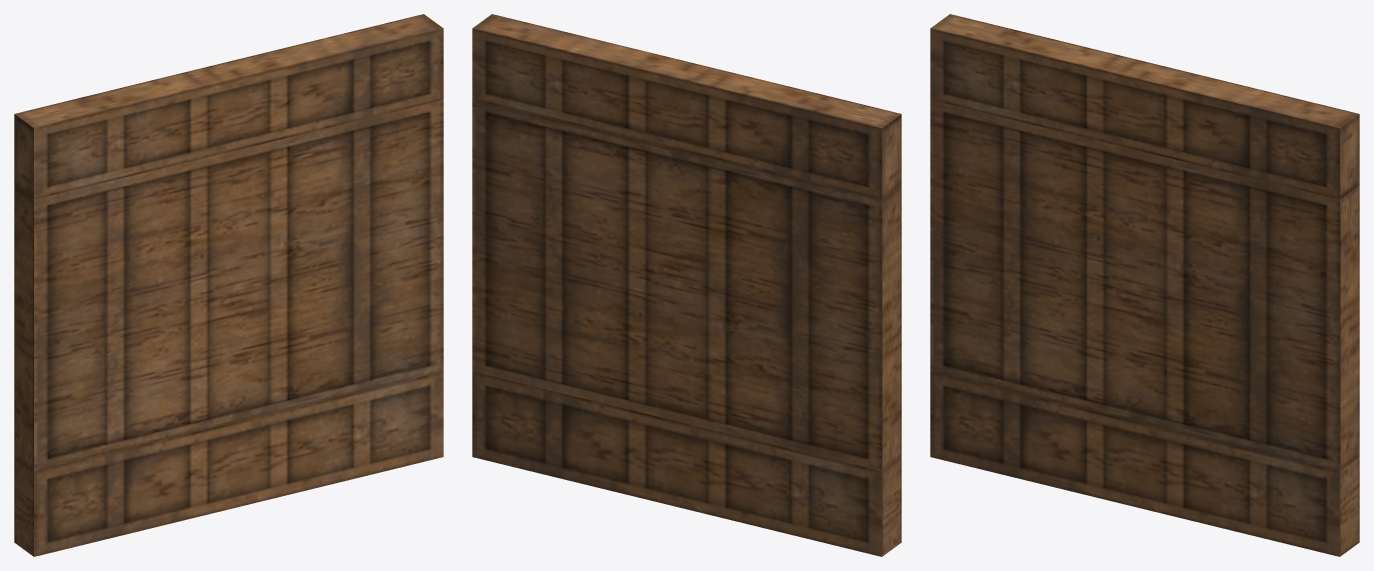
File: wooden_wall_3x3.fbx
The picture shows the model from 3 angles, left to right: view 1: azimuth 30°, elevation 25°; view 2: azimuth 150°, elevation 25°; view 3: azimuth 330°, elevation 25°; orthographic projection.
Parts seen in each view (by area): view 1: Wall_3x3; view 2: Wall_3x3; view 3: Wall_3x3.
Boxes of the visible parts, <box> form: Wall_3x3: <box>14,14,443,556</box>; Wall_3x3: <box>472,14,901,556</box>; Wall_3x3: <box>930,14,1359,556</box>.
Bounding box in the file's own units: 300 × 300 × 25.
